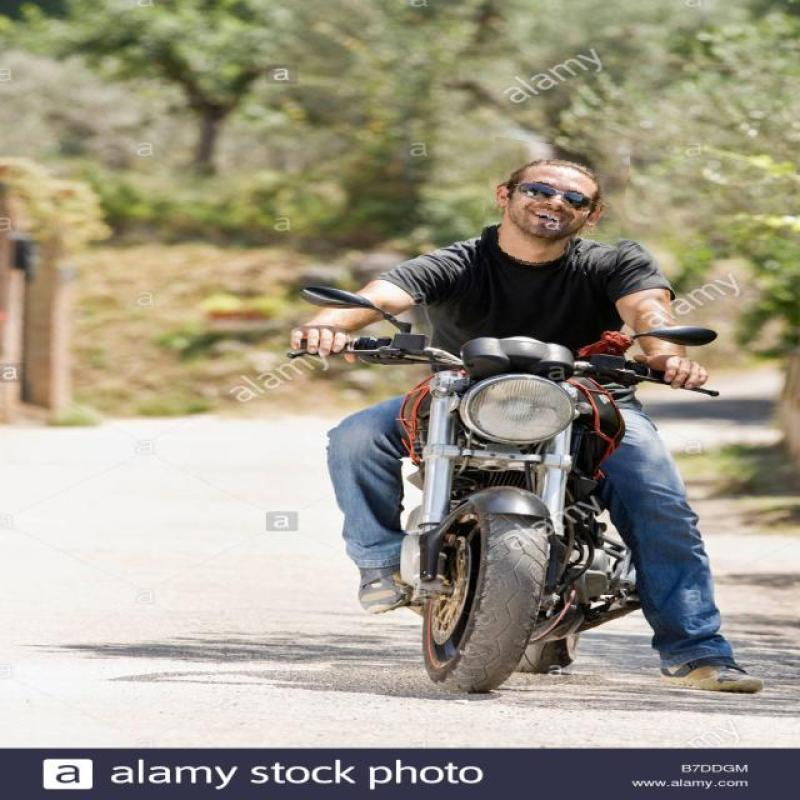nohelmet: (482, 141, 627, 272)
